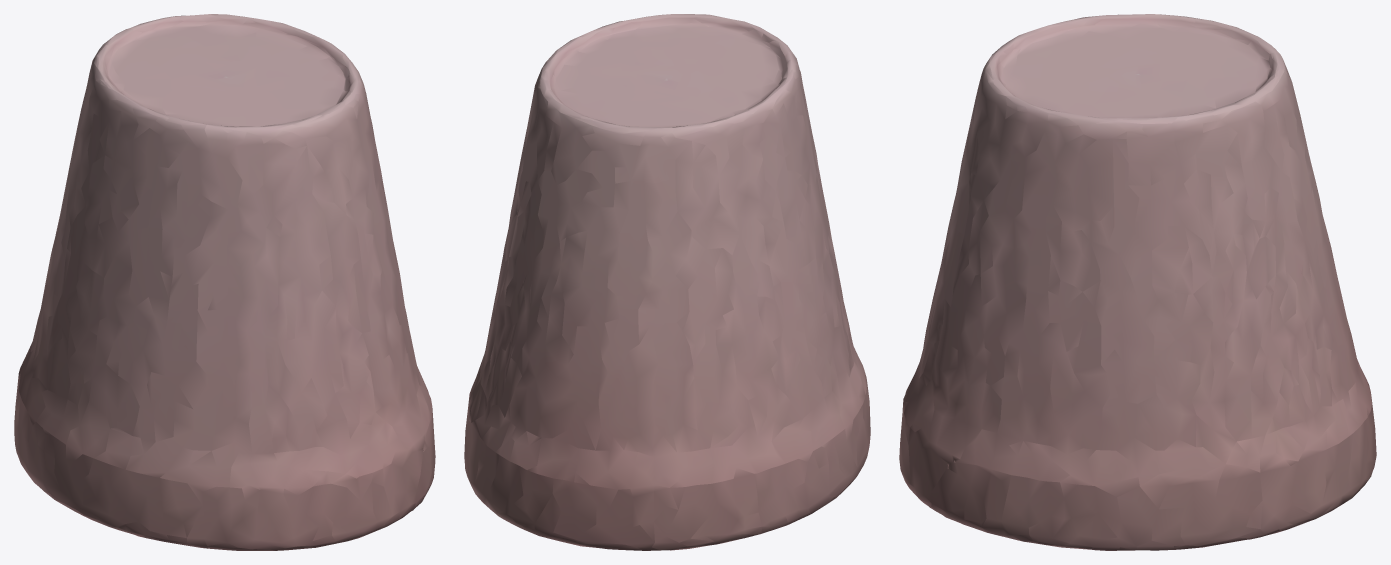
File: 0003_mask_004_pink_cup.glb
3 views of the same model, side by side, from view 1: azimuth 30°, elevation 25°; view 2: azimuth 150°, elevation 25°; view 3: azimuth 270°, elevation 25° (orthographic). The views are drawn at different scales.
Parts seen in each view (by area): view 1: mask_004_object; view 2: mask_004_object; view 3: mask_004_object.
Part boxes in pixels (x1,y1,x2,y2): mask_004_object: (14,14,435,550); mask_004_object: (464,14,870,550); mask_004_object: (899,14,1376,550).
Size of the model in its own units: 0.1471 by 0.1592 by 0.1714.
